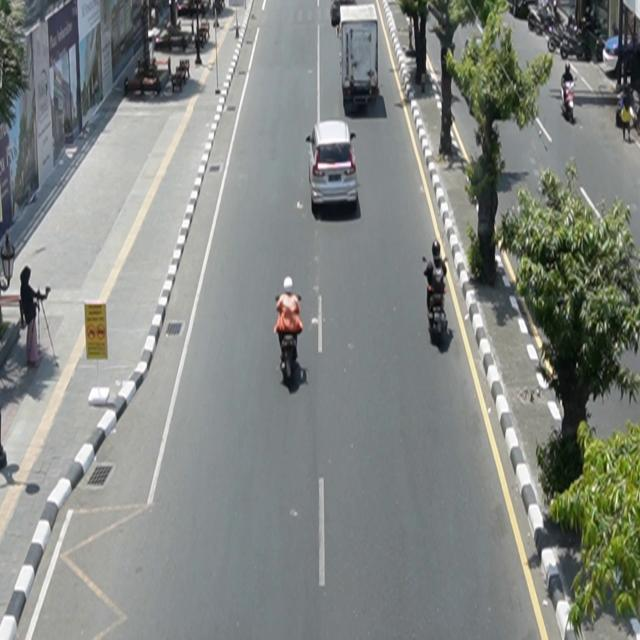car: (306, 120, 359, 210)
truck: (335, 3, 380, 115)
